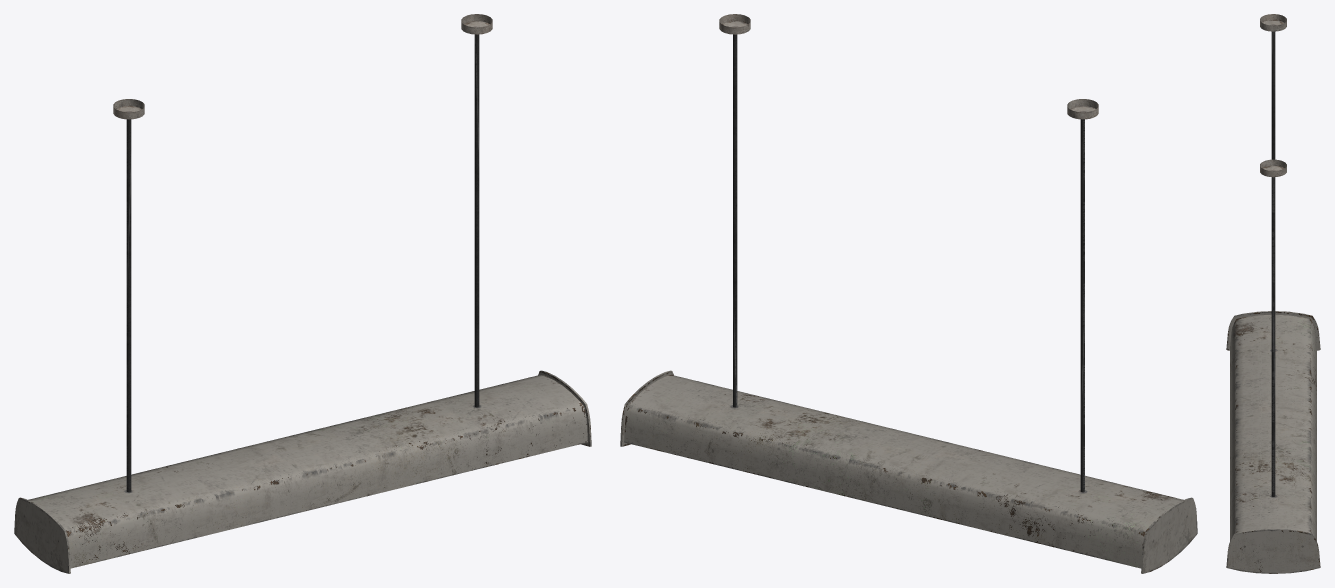
Rendered from LampFluoHangingB.fbx.
The picture shows the model from 3 angles, left to right: view 1: azimuth 30°, elevation 25°; view 2: azimuth 150°, elevation 25°; view 3: azimuth 270°, elevation 25°; orthographic projection. The views are drawn at different scales.
Visible parts, largest first — view 1: LampFluoHangingB_LOD0; view 2: LampFluoHangingB_LOD0; view 3: LampFluoHangingB_LOD0.
Boxes of the visible parts, box(x1,y1,x2,y2) form: LampFluoHangingB_LOD0: box(14, 14, 591, 573); LampFluoHangingB_LOD0: box(620, 14, 1197, 573); LampFluoHangingB_LOD0: box(1226, 14, 1320, 573).
Size of what is drawn, in the model's own units: 152 by 121 by 27.67.
